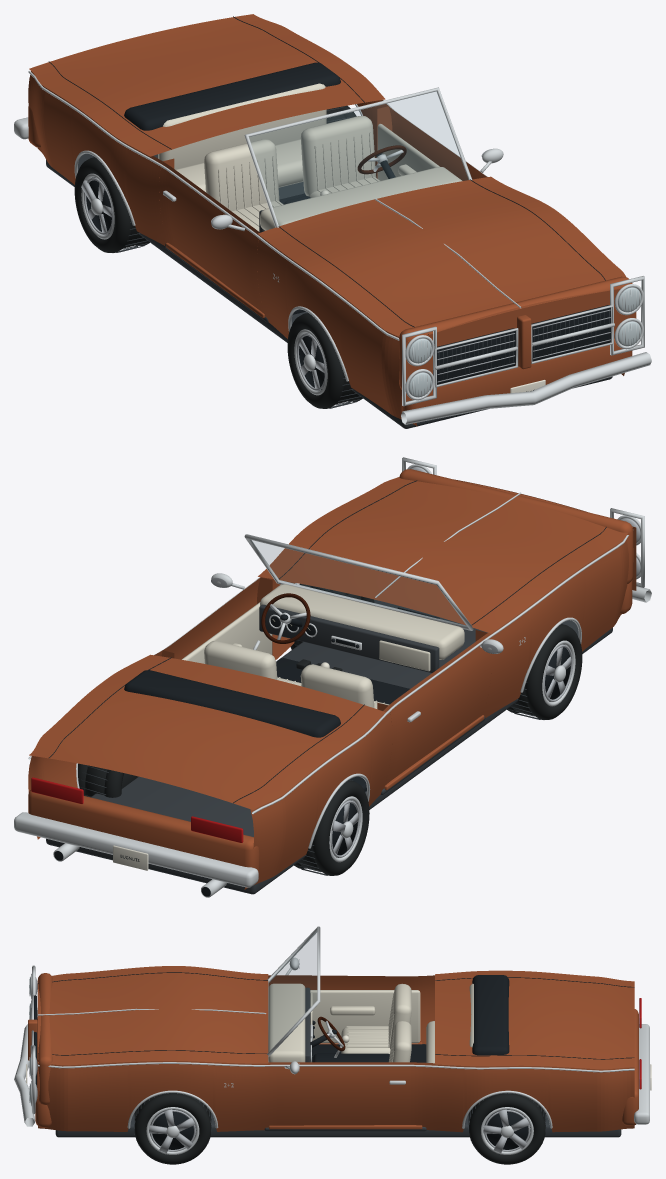
Rendered from craig.glb.
The picture shows the model from 3 angles, top to bottom: view 1: azimuth 30°, elevation 25°; view 2: azimuth 150°, elevation 25°; view 3: azimuth 270°, elevation 25°; orthographic projection. The views are drawn at different scales.
Parts seen in each view (by area): view 1: Body, DoorMesh_R, WheelMesh_FR, WheelMesh_RR, DoorMesh_L, SteeringWheelMesh; view 2: Body, DoorMesh_R, DoorMesh_L, WheelMesh_FR, WheelMesh_RR, WheelMesh_RL, SteeringWheelMesh; view 3: Body, DoorMesh_L, DoorMesh_R, WheelMesh_FL, WheelMesh_RL, SteeringWheelMesh.
Boxes of the visible parts, box(x1,y1,x2,y2) form: Body: box(14, 14, 651, 428); DoorMesh_R: box(159, 158, 265, 318); WheelMesh_FR: box(287, 312, 362, 408); WheelMesh_RR: box(74, 156, 149, 252); DoorMesh_L: box(377, 106, 503, 180); SteeringWheelMesh: box(357, 145, 406, 174); Body: box(14, 457, 651, 897); DoorMesh_R: box(377, 630, 503, 790); DoorMesh_L: box(161, 573, 272, 663); WheelMesh_FR: box(507, 623, 582, 719); WheelMesh_RR: box(294, 779, 369, 875); WheelMesh_RL: box(78, 763, 138, 797); SteeringWheelMesh: box(261, 593, 310, 643); Body: box(14, 926, 651, 1137); DoorMesh_L: box(268, 1061, 422, 1129); DoorMesh_R: box(268, 957, 422, 1044); WheelMesh_FL: box(134, 1093, 211, 1164); WheelMesh_RL: box(468, 1093, 546, 1164); SteeringWheelMesh: box(317, 1016, 345, 1051).
Bounding box in the file's own units: 2.41 × 1.57 × 5.82.
Materials: 13 (1 with a texture image).
